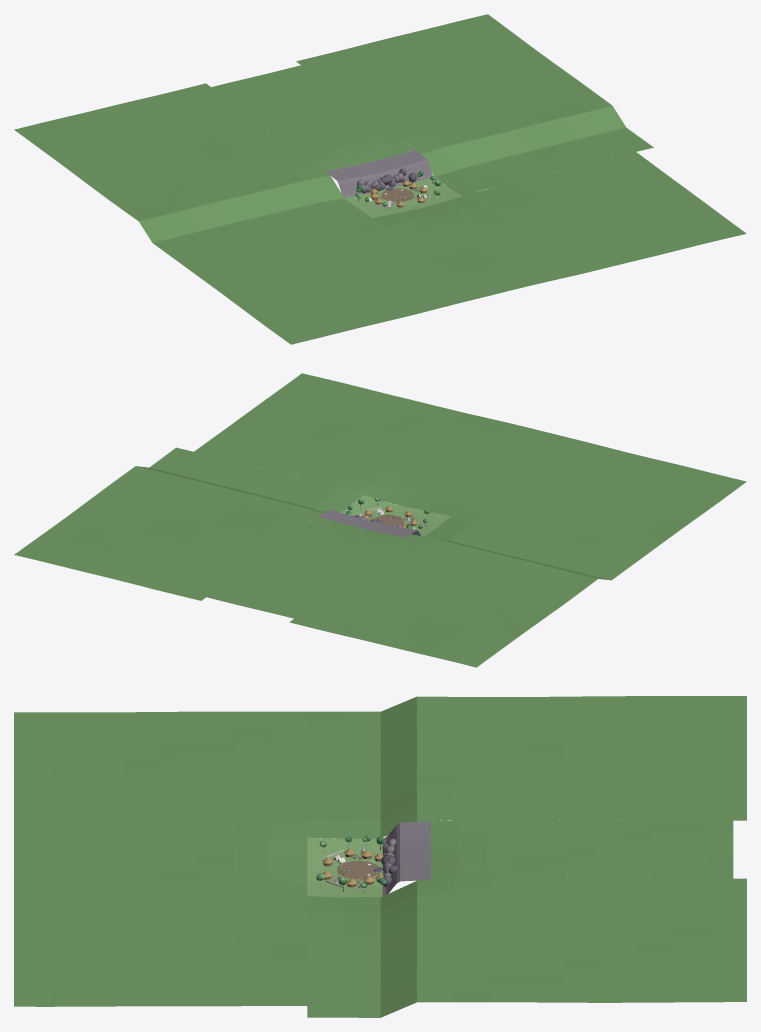
File: cine_declare.glb
The picture shows the model from 3 angles, top to bottom: view 1: azimuth 30°, elevation 25°; view 2: azimuth 150°, elevation 25°; view 3: azimuth 270°, elevation 25°; orthographic projection. The views are drawn at different scales.
Parts seen in each view (by area): view 1: ground_grass_d, ground_cliff, ground_grass; view 2: ground_grass_d, ground_grass, ground_cliff; view 3: ground_grass_d, ground_grass, ground_cliff, ground_plaza_fine.
Boxes of the visible parts, bbox=[...] form: ground_grass_d: bbox=[14, 14, 746, 344]; ground_cliff: bbox=[326, 150, 432, 197]; ground_grass: bbox=[344, 177, 461, 217]; ground_grass_d: bbox=[14, 373, 746, 667]; ground_grass: bbox=[341, 495, 450, 536]; ground_cliff: bbox=[318, 509, 420, 537]; ground_grass_d: bbox=[14, 696, 746, 1017]; ground_grass: bbox=[307, 837, 382, 897]; ground_cliff: bbox=[382, 821, 430, 895]; ground_plaza_fine: bbox=[337, 861, 379, 879].
Bounding box in the file's own units: 316 × 12.46 × 320.
